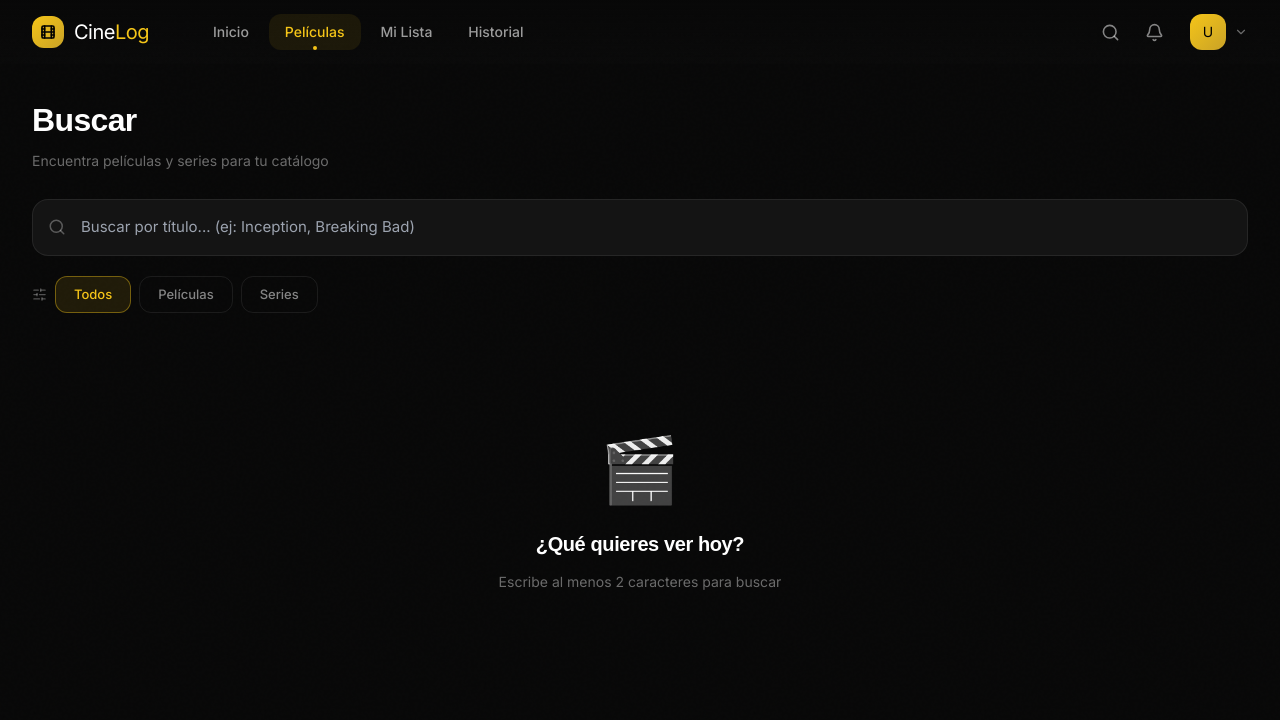
Scenario: Busqueda › buscar muestra resultados
This screenshot has width=1280, height=720.
Step 1. Type "Inception" into the field with test id "buscar-input" → [640, 228], box 32,199 -> 1248,256
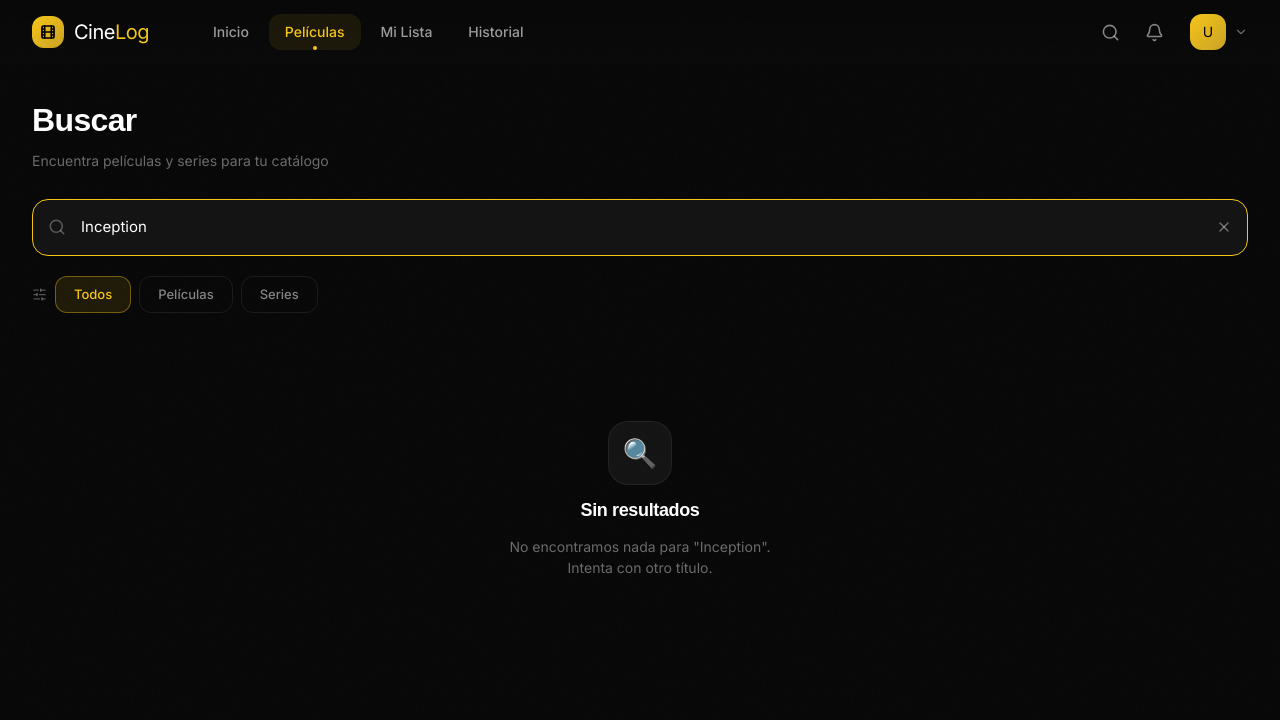
Check: the text "Inception" is shown, box 700,538 -> 761,555
